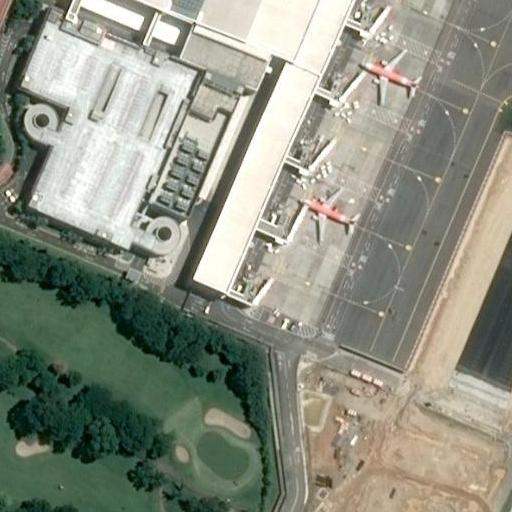Aircraft: (358, 43, 419, 104), (298, 185, 359, 240)
